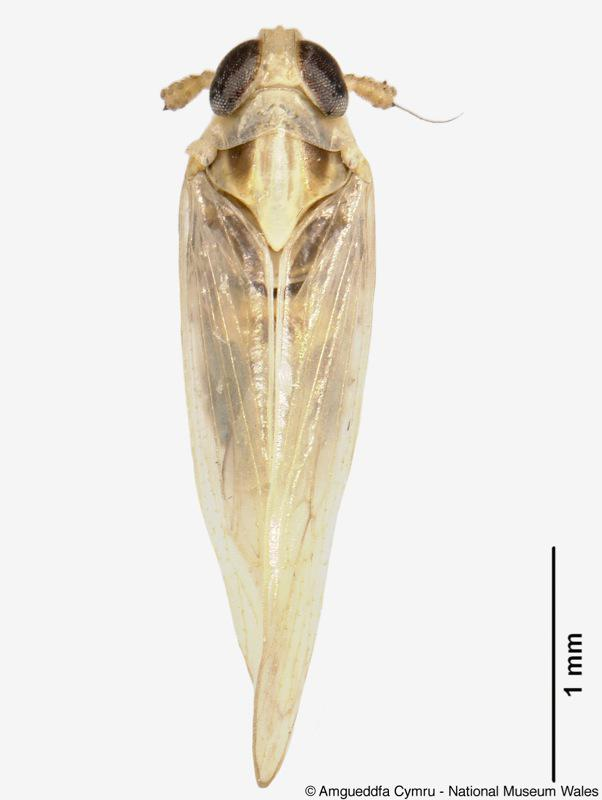pest: (157, 22, 413, 787)
